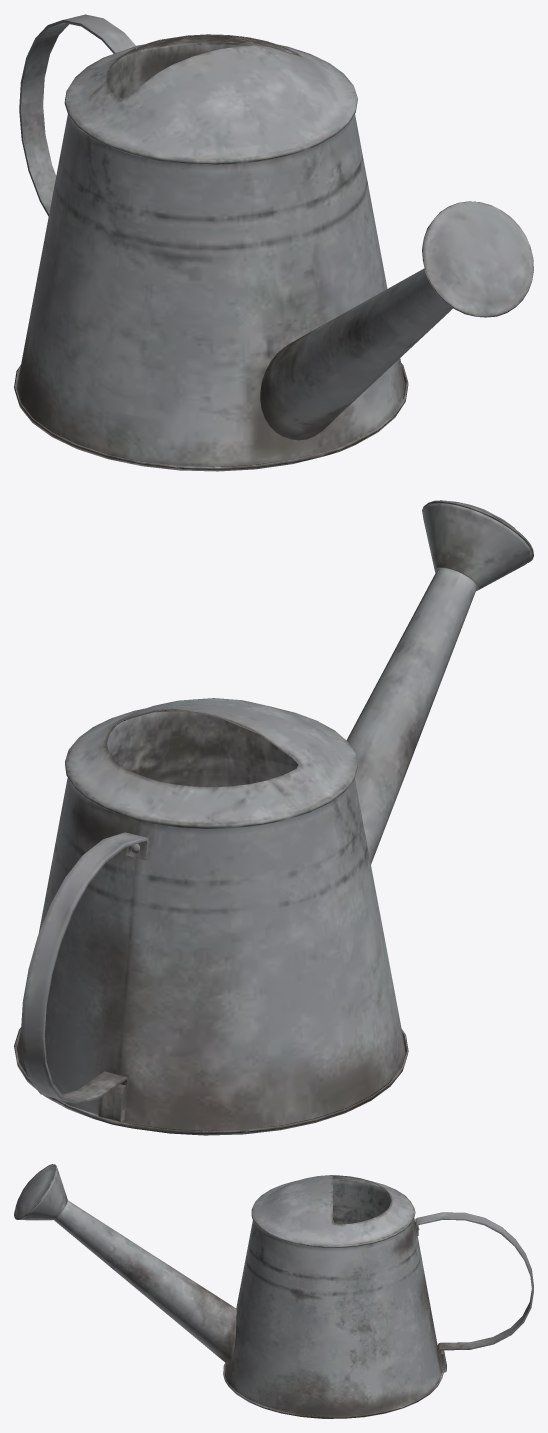
Rendered from watering_can_metal_01.glb.
3 views of the same model, one above another, from view 1: azimuth 30°, elevation 25°; view 2: azimuth 150°, elevation 25°; view 3: azimuth 270°, elevation 25° (orthographic). The views are drawn at different scales.
Parts seen in each view (by area): view 1: watering_can_metal_01; view 2: watering_can_metal_01; view 3: watering_can_metal_01.
Boxes of the visible parts, left/top/right/bottom form: watering_can_metal_01: left=14, top=14, right=533, bottom=471; watering_can_metal_01: left=14, top=500, right=533, bottom=1135; watering_can_metal_01: left=14, top=1164, right=533, bottom=1418.
Bounding box in the file's own units: 0.191 × 0.1965 × 0.4521.
1 material, 1 textured.
